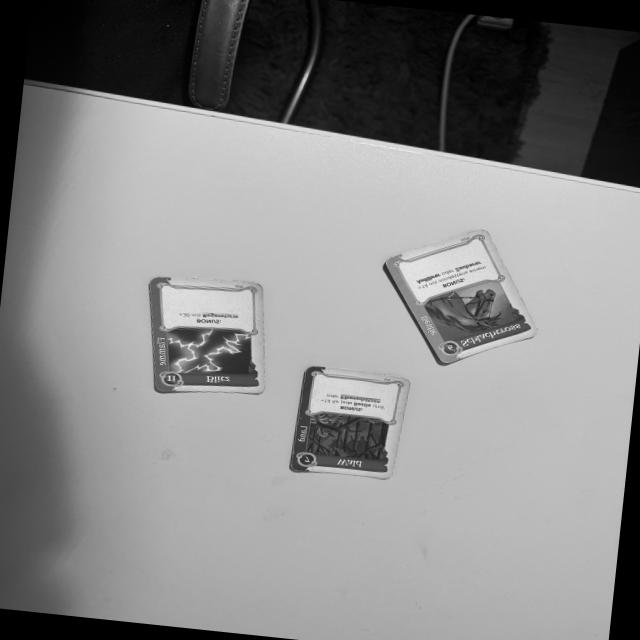Forest: (284, 361, 414, 485)
Lightning: (142, 274, 264, 396)
War Horse: (380, 225, 544, 368)
